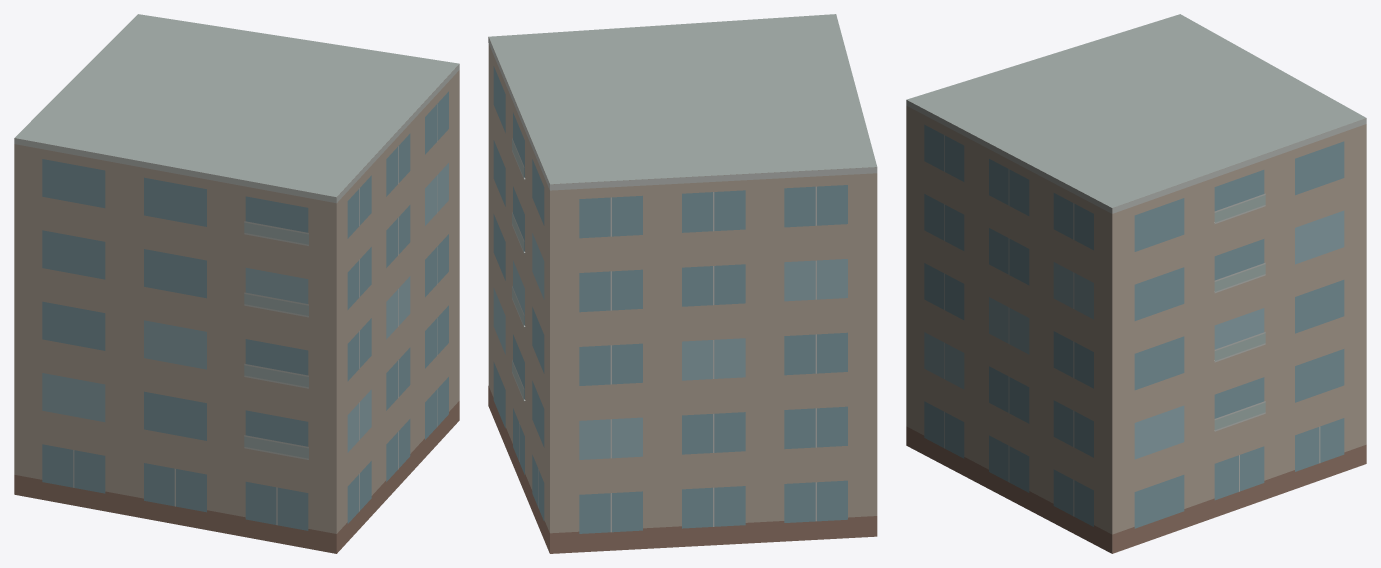
File: survey-upis-32982226.glb
3 views of the same model, side by side, from view 1: azimuth 30°, elevation 25°; view 2: azimuth 150°, elevation 25°; view 3: azimuth 270°, elevation 25° (orthographic). The views are drawn at different scales.
Parts seen in each view (by area): view 1: survey-upis-32982226.tmp; view 2: survey-upis-32982226.tmp; view 3: survey-upis-32982226.tmp.
Boxes of the visible parts, x1,y1,x2,y2 form: survey-upis-32982226.tmp: (14,14,459,553); survey-upis-32982226.tmp: (488,14,877,553); survey-upis-32982226.tmp: (906,14,1366,553).
Size of the model in its own units: 17.31 by 14.37 by 17.35.
